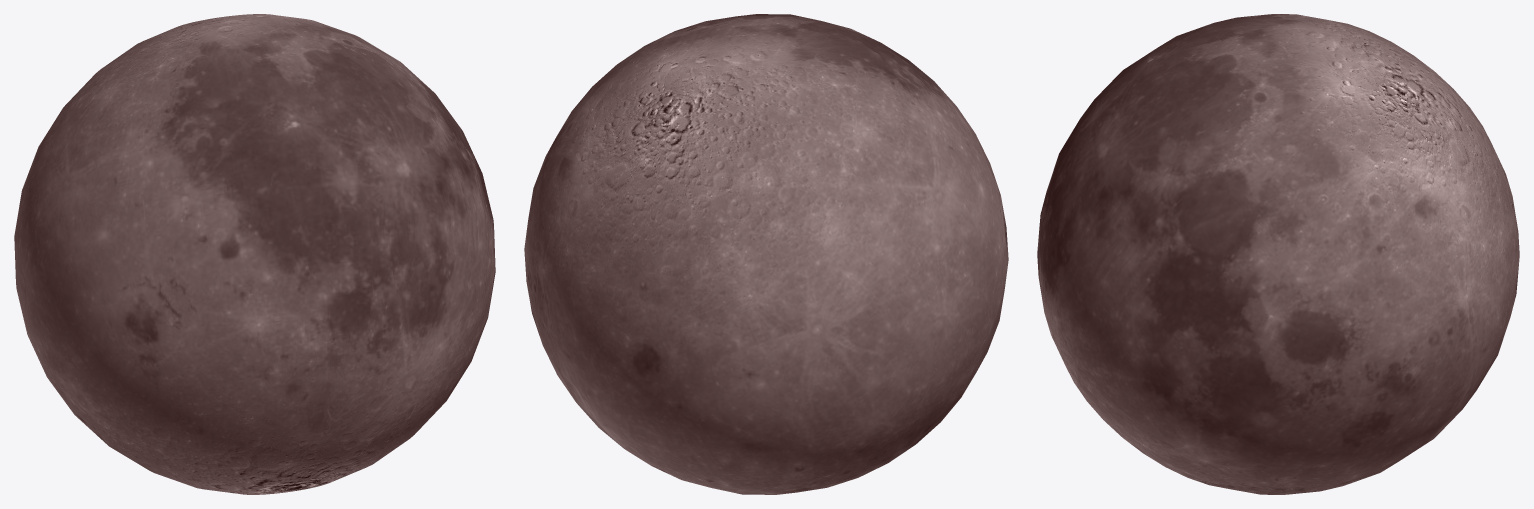
The model's file is llll.glb.
The picture shows the model from 3 angles, left to right: view 1: azimuth 30°, elevation 25°; view 2: azimuth 150°, elevation 25°; view 3: azimuth 270°, elevation 25°; orthographic projection.
Visible parts, largest first — view 1: Planet Red - Fictional Planet; view 2: Planet Red - Fictional Planet; view 3: Planet Red - Fictional Planet.
Part boxes in pixels (x1,y1,x2,y2): Planet Red - Fictional Planet: (14, 14, 495, 494); Planet Red - Fictional Planet: (524, 14, 1008, 494); Planet Red - Fictional Planet: (1037, 14, 1519, 494).
Size of the model in its own units: 2.03 by 2.02 by 2.02.
1 material, 1 textured.
